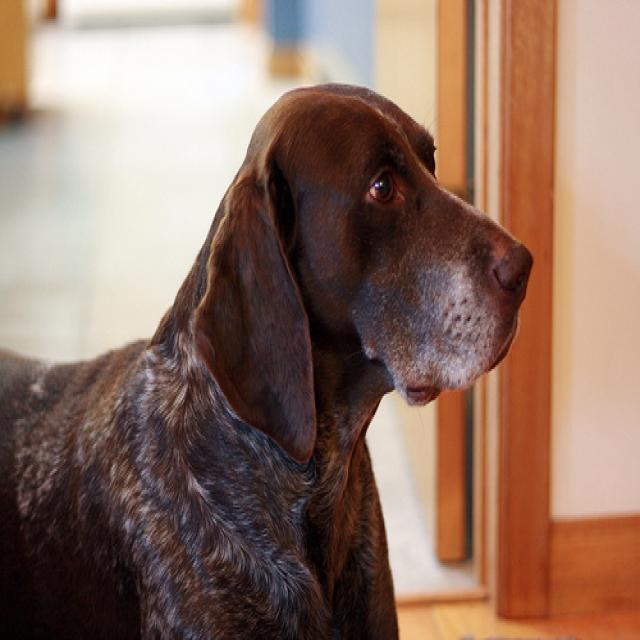dog-german_shorthaired: (1, 77, 532, 636)
